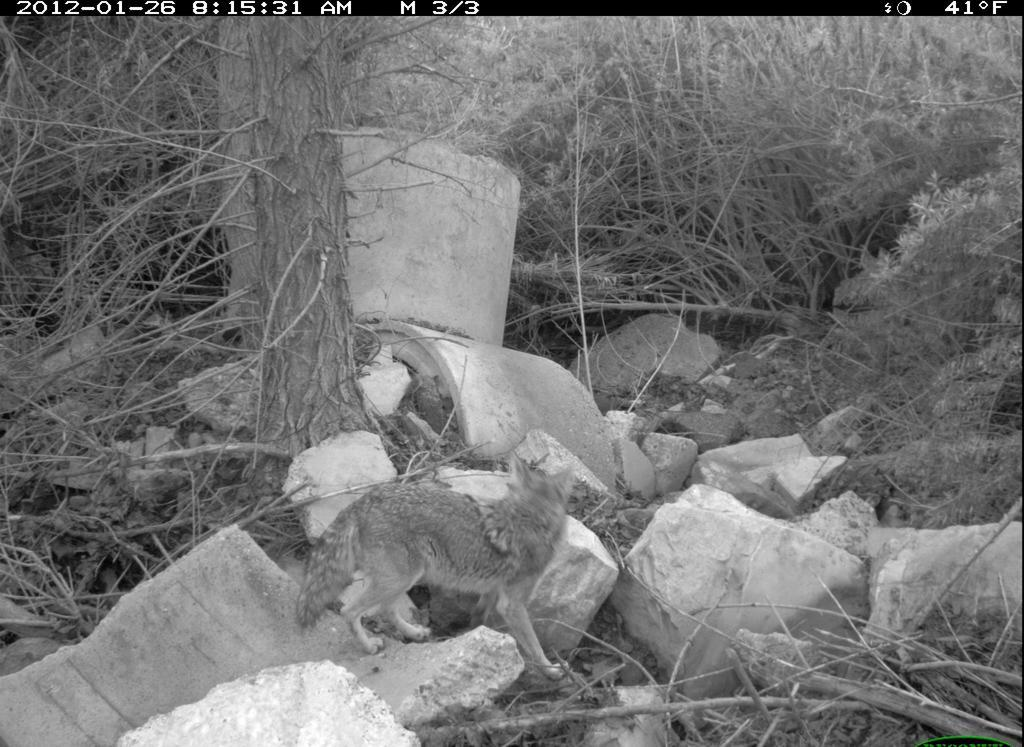coyote: (287, 438, 597, 689)
